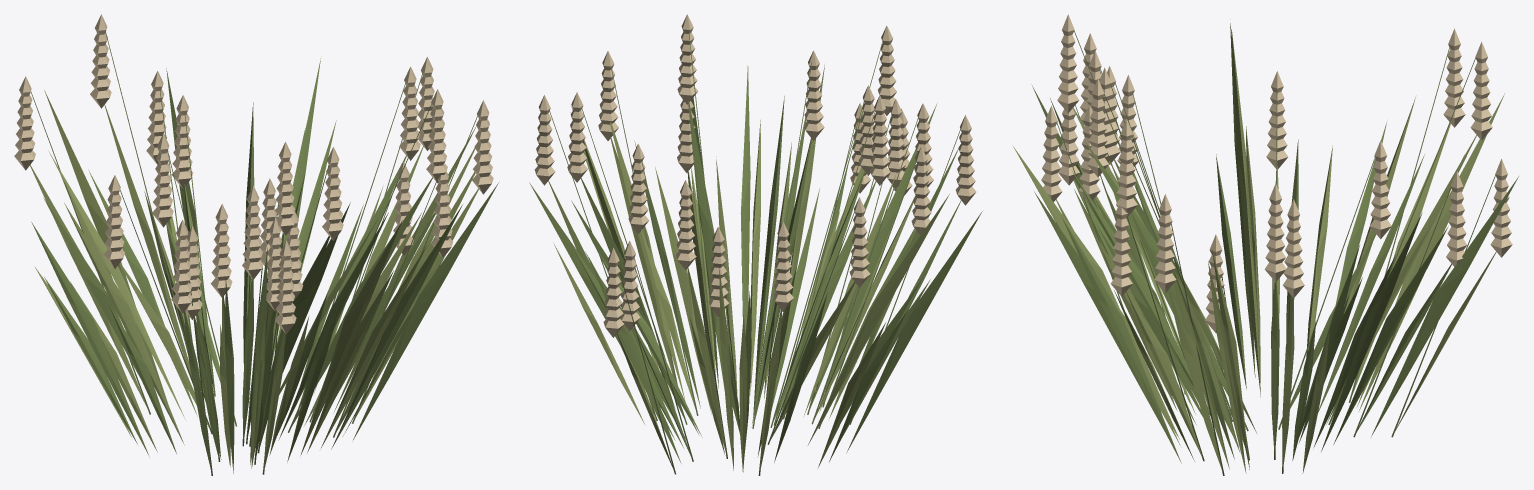
The model's file is Ornamental1.fbx.
3 views of the same model, side by side, from view 1: azimuth 30°, elevation 25°; view 2: azimuth 150°, elevation 25°; view 3: azimuth 270°, elevation 25° (orthographic). The views are drawn at different scales.
Visible parts, largest first — view 1: Ornamental1_LOD0; view 2: Ornamental1_LOD0; view 3: Ornamental1_LOD0.
Part boxes in pixels (<box>): Ornamental1_LOD0: <box>14,14,498,475</box>; Ornamental1_LOD0: <box>529,14,982,475</box>; Ornamental1_LOD0: <box>1012,14,1518,475</box>.
Size of what is drawn, in the model's own units: 146 by 117 by 139.
Materials: 1 (1 with a texture image).
